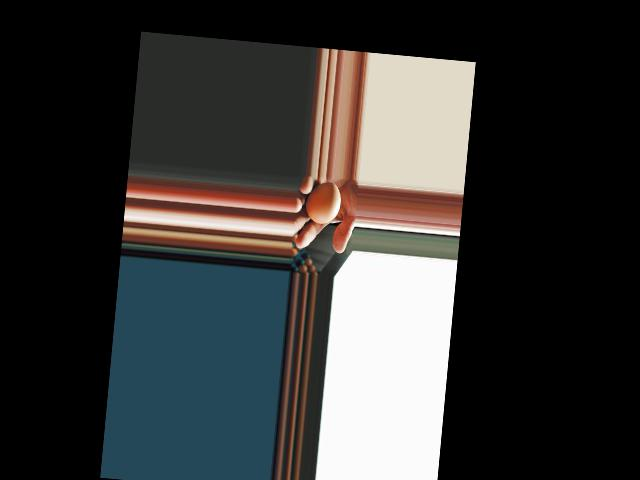egg: (303, 179, 342, 225)
